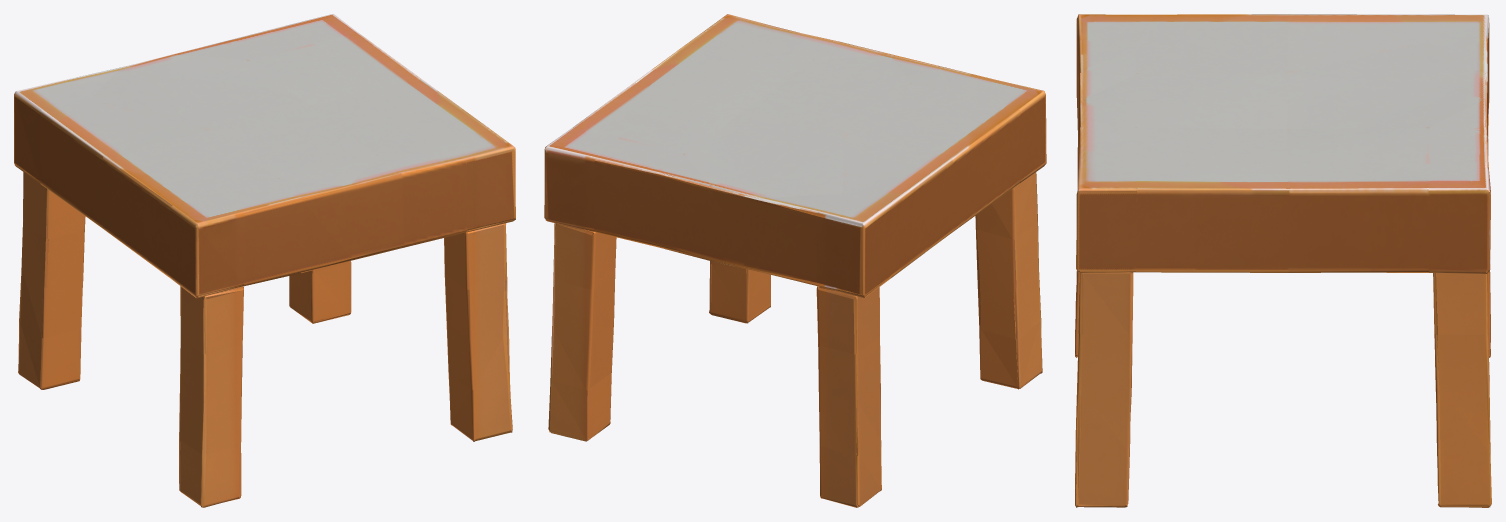
The model's file is upperFloor.glb.
3 renders of one model, left to right at view 1: azimuth 30°, elevation 25°; view 2: azimuth 150°, elevation 25°; view 3: azimuth 270°, elevation 25°, orthographic. The views are drawn at different scales.
Size of the model in its own units: 2.7 by 2.3 by 2.7.
Materials: 1 (1 with a texture image).
